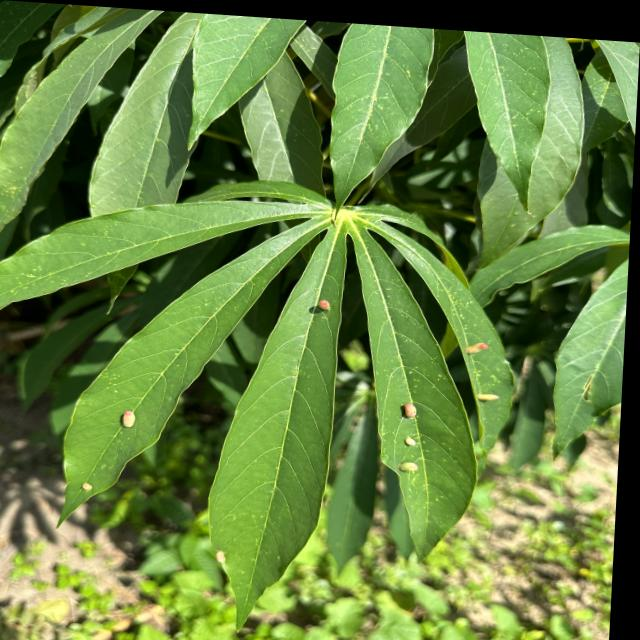Mosca: (397, 397, 427, 480), (110, 397, 143, 433), (467, 386, 503, 407), (308, 293, 335, 320), (460, 336, 490, 360), (73, 474, 99, 494), (216, 541, 236, 565)
